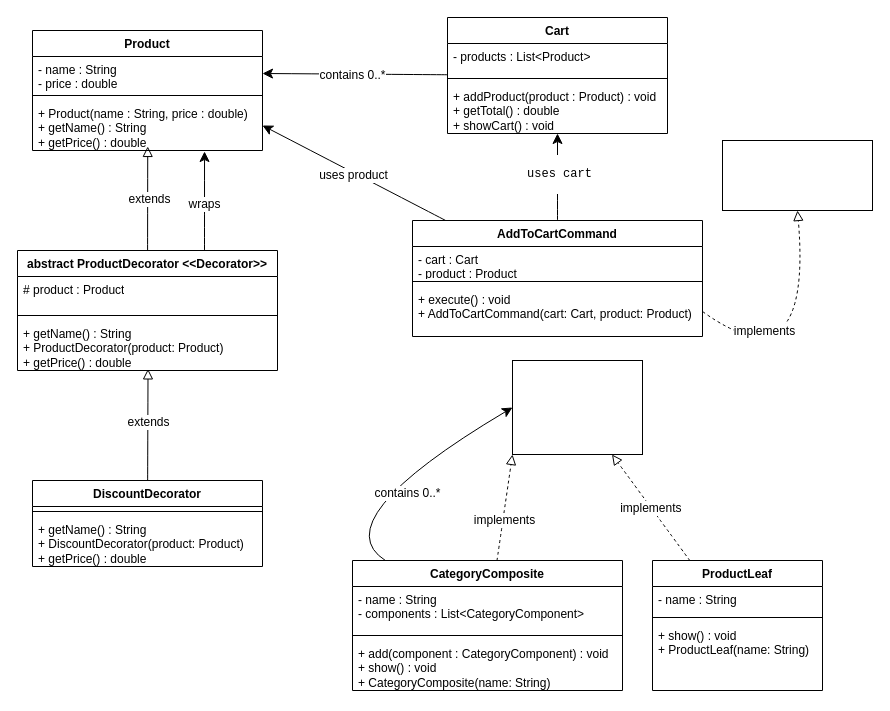
Image size: 890x711. Some labels were removed from this diagram. The centre of each missing label's shape, as x and y in pixels:
<<interface>> CategoryComponent <<Composite>> + show() : void: point (577, 407)
<<interface>> Command <<Command>> + execute() : void: point (797, 175)
